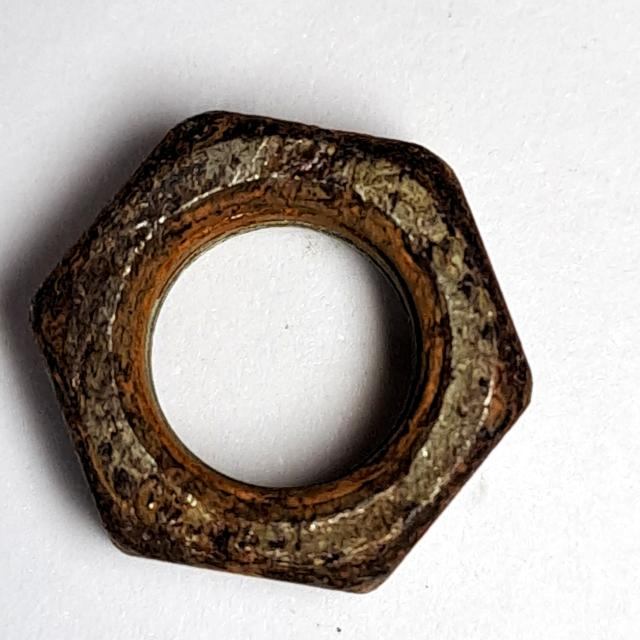Rust: (19, 94, 545, 607)
